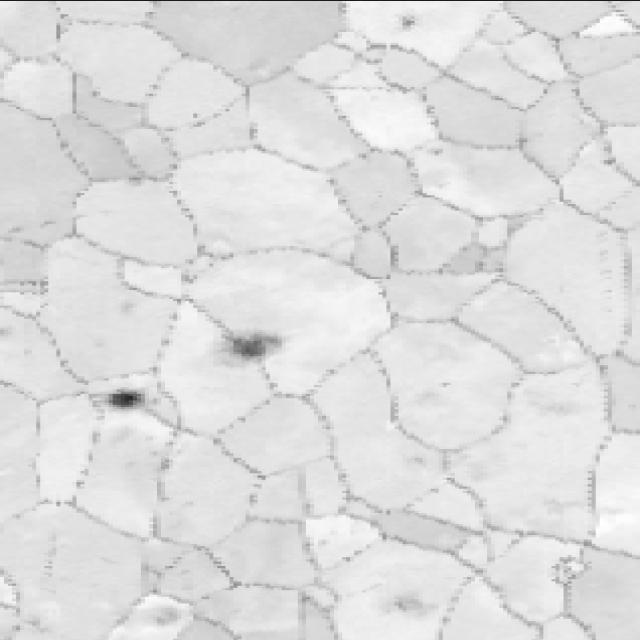good_void: (364, 566, 454, 628), (206, 324, 282, 372), (533, 550, 587, 589), (95, 379, 151, 415), (375, 8, 433, 41), (138, 598, 189, 631), (108, 288, 148, 319), (398, 445, 446, 469), (593, 150, 628, 175), (418, 144, 452, 163), (185, 106, 208, 124)
